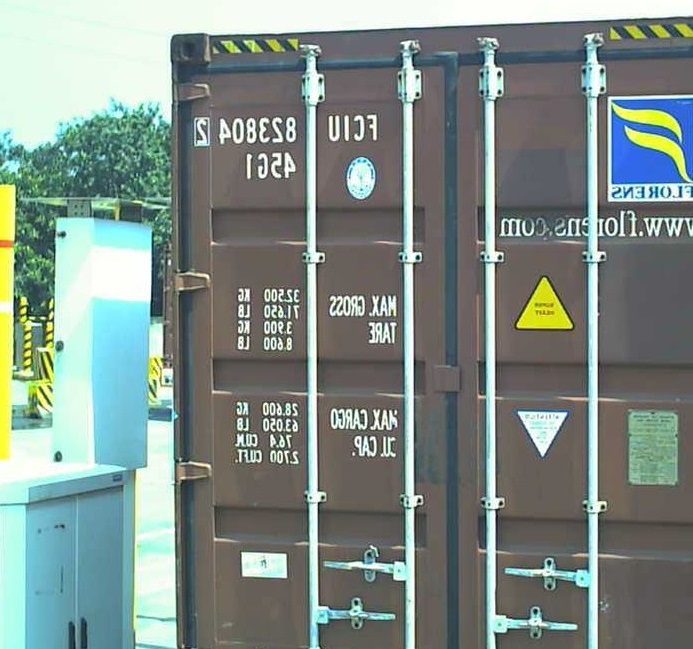container_door: (166, 26, 689, 645)
